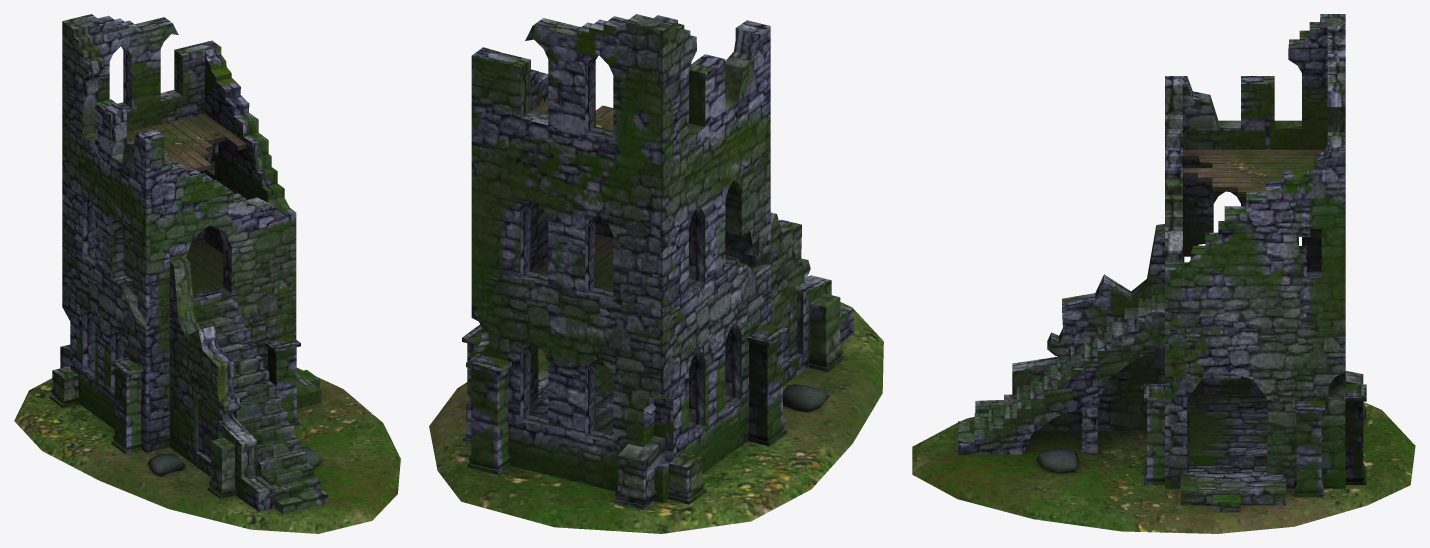
Rendered from Ruins-2.FBX.
The picture shows the model from 3 angles, left to right: view 1: azimuth 30°, elevation 25°; view 2: azimuth 150°, elevation 25°; view 3: azimuth 270°, elevation 25°; orthographic projection. The views are drawn at different scales.
Visible parts, largest first — view 1: Ruins-2; view 2: Ruins-2; view 3: Ruins-2.
Boxes of the visible parts, x1,y1,x2,y2 form: Ruins-2: [14, 14, 400, 533]; Ruins-2: [429, 14, 883, 533]; Ruins-2: [912, 14, 1415, 533].
Size of the model in its own units: 296 by 369 by 416.
